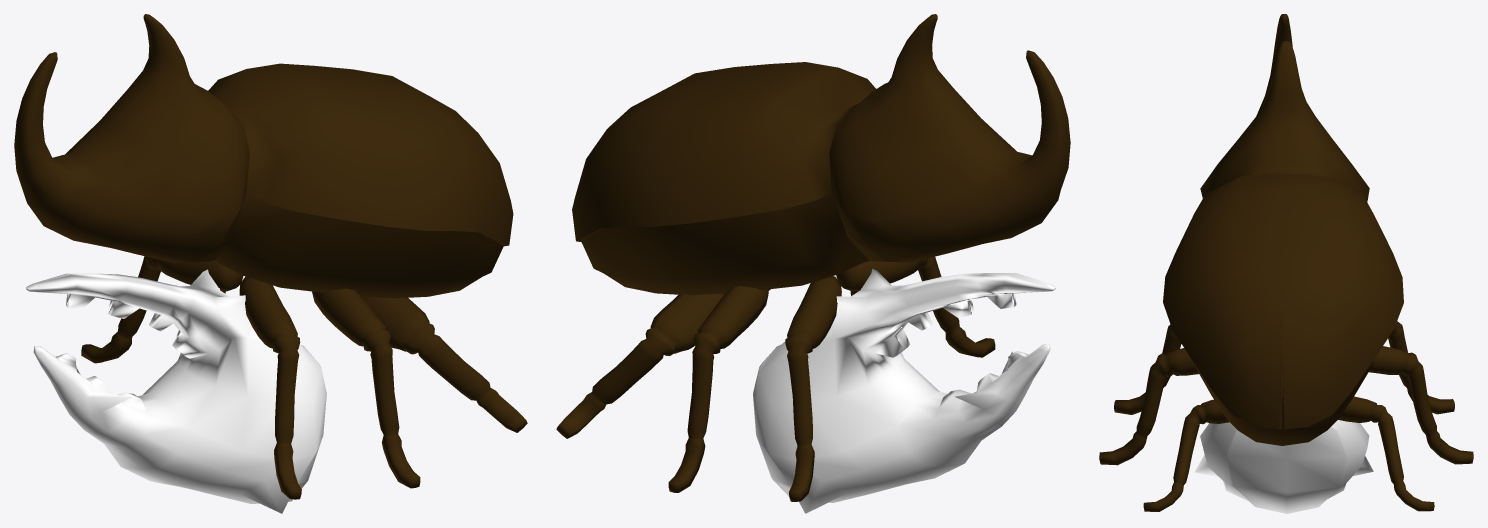
File: boss_beetle_collectible.glb
3 views of the same model, side by side, from view 1: azimuth 30°, elevation 25°; view 2: azimuth 150°, elevation 25°; view 3: azimuth 270°, elevation 25° (orthographic). The views are drawn at different scales.
Visible parts, largest first — view 1: legs, boss_beetle; view 2: legs, boss_beetle; view 3: legs, boss_beetle.
Part boxes in pixels (x1=…): legs: x1=14, y1=14, x2=527, y2=499; boss_beetle: x1=26, y1=269, x2=326, y2=513; legs: x1=556, y1=14, x2=1070, y2=501; boss_beetle: x1=753, y1=268, x2=1055, y2=513; legs: x1=1099, y1=14, x2=1473, y2=511; boss_beetle: x1=1195, y1=420, x2=1373, y2=513.
Bounding box in the file's own units: 15.86 × 16.09 × 12.88.
